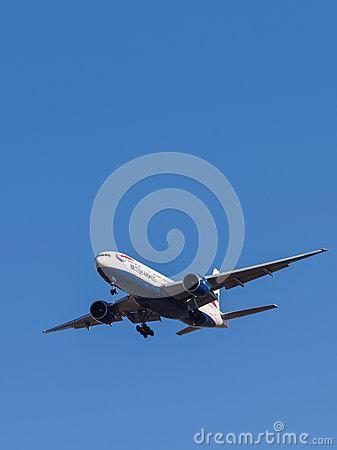airplane: (40, 244, 330, 338)
